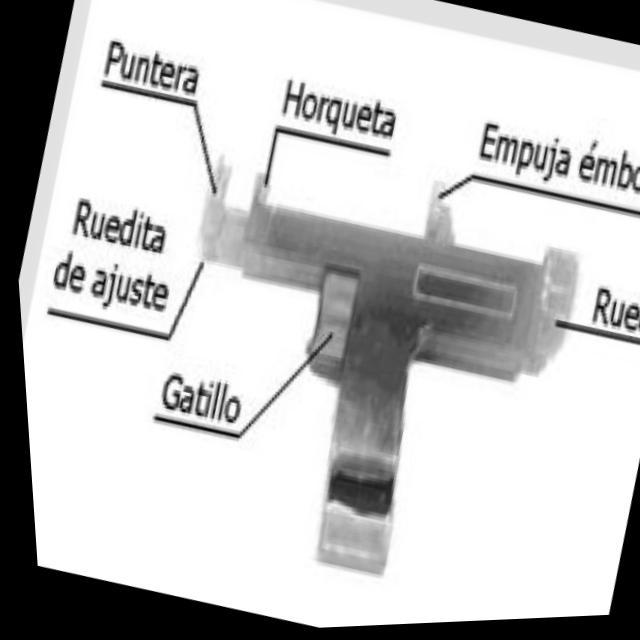weapon: (105, 116, 610, 625)
